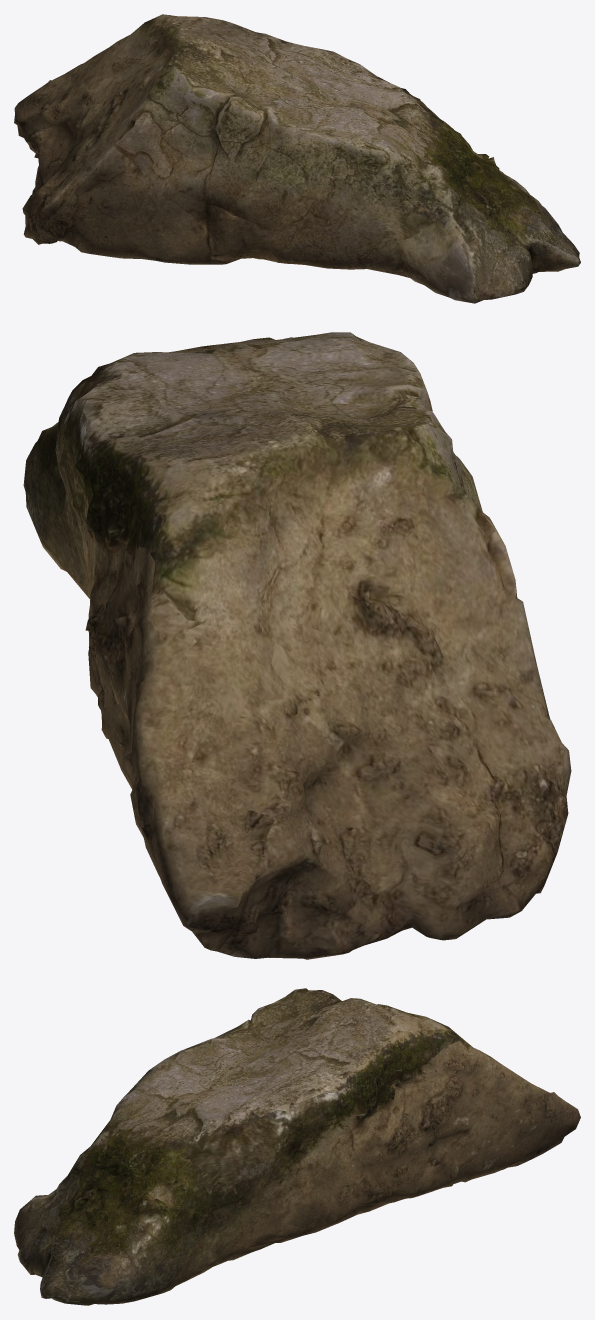
The model's file is rock_moss_01_r02.glb.
The picture shows the model from 3 angles, top to bottom: view 1: azimuth 30°, elevation 25°; view 2: azimuth 150°, elevation 25°; view 3: azimuth 270°, elevation 25°; orthographic projection. The views are drawn at different scales.
Parts seen in each view (by area): view 1: rock_moss_01_r02_LOD0; view 2: rock_moss_01_r02_LOD0; view 3: rock_moss_01_r02_LOD0.
Boxes of the visible parts, box(x1,y1,x2,y2) form: rock_moss_01_r02_LOD0: box(14, 14, 580, 303); rock_moss_01_r02_LOD0: box(23, 332, 571, 959); rock_moss_01_r02_LOD0: box(14, 988, 580, 1305).
Size of what is drawn, in the model's own units: 2.66 by 1.26 by 3.26.
1 material, 1 textured.
